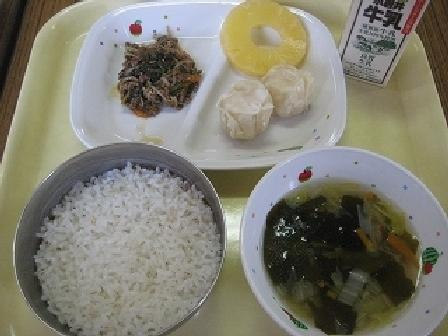Milk: (332, 0, 433, 75)
Rice: (7, 143, 228, 335)
Soups: (248, 151, 441, 335)
cooked food based on meat: (107, 33, 200, 125)
cutlet: (217, 73, 326, 134)
pineapple: (223, 1, 309, 72)
